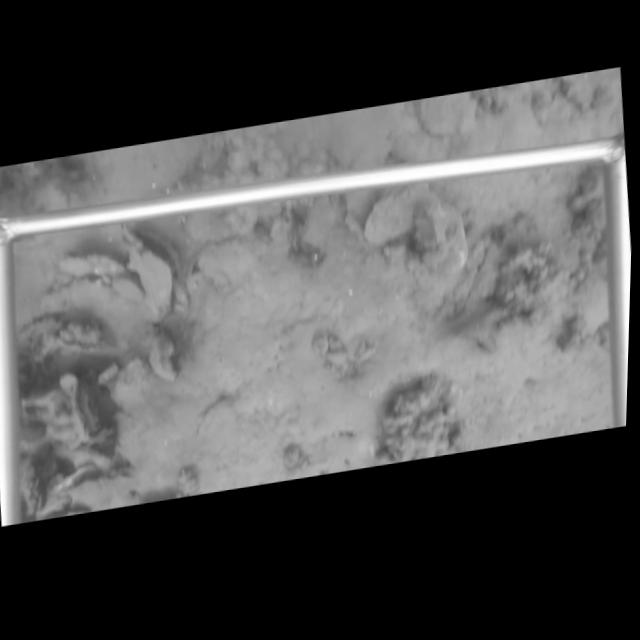Oyster-Closed: (58, 374, 89, 444)
Oyster-Indeterminate: (122, 224, 176, 328), (363, 182, 433, 249), (411, 92, 476, 138)
